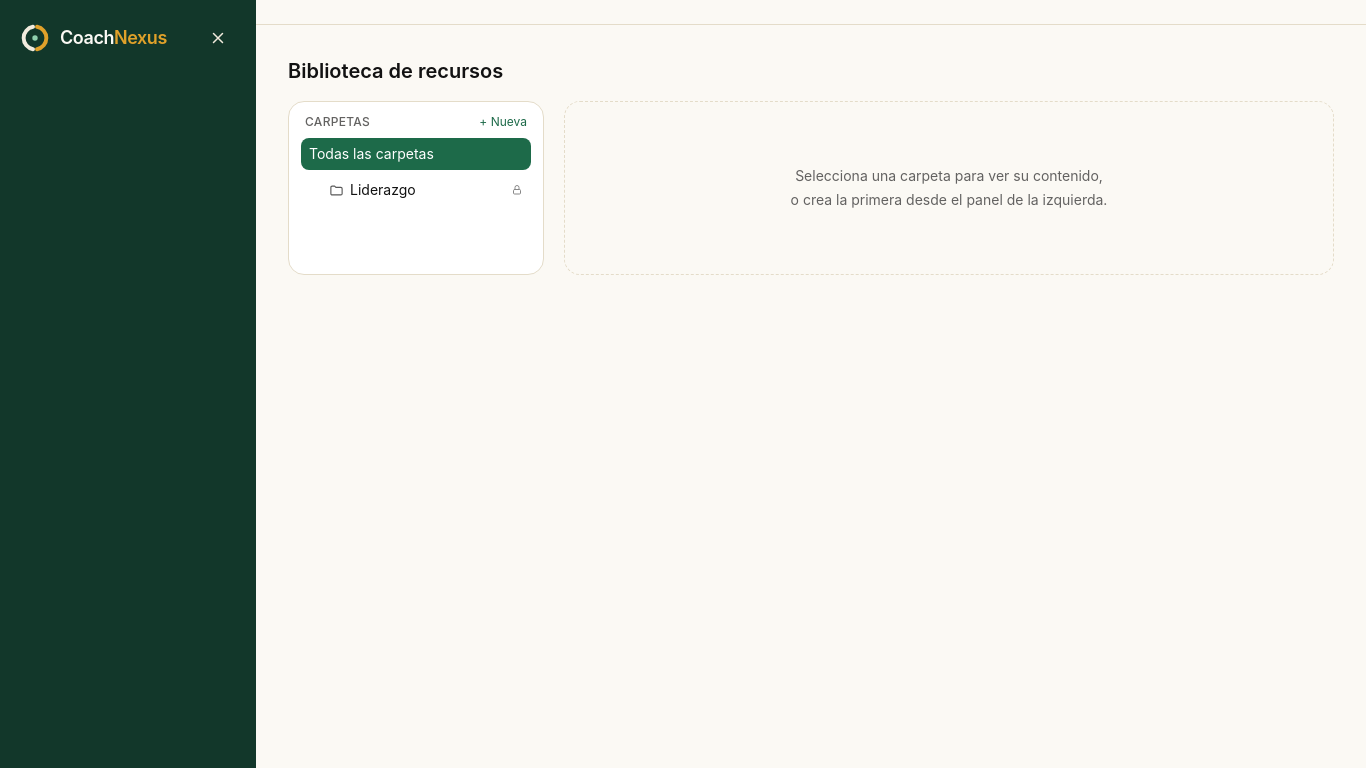
Scenario: RecursosView › filters the folder resources by categoria
This screenshot has width=1366, height=768.
Click the element showing "Liderazgo" at (383, 190), box [329,181,523,198]
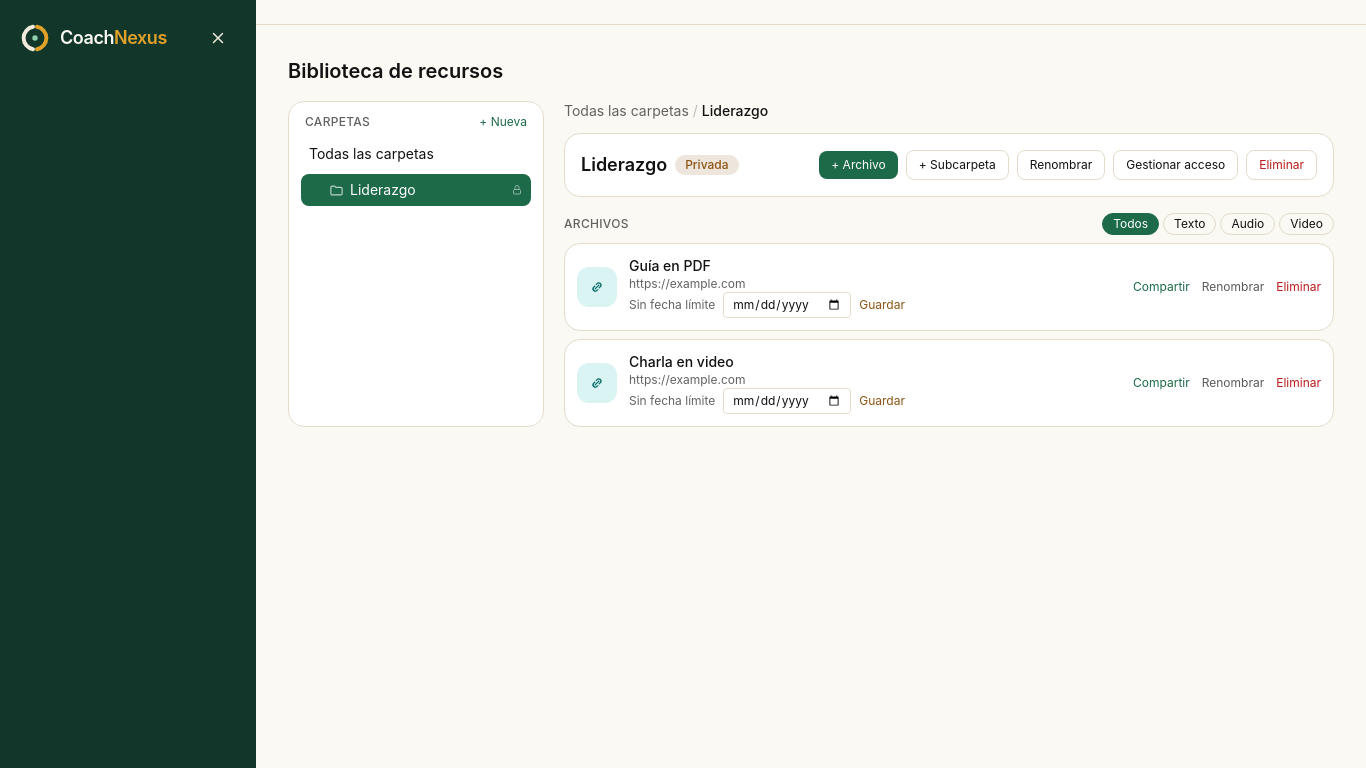
Expected: the text "Guía en PDF" is shown, [629,257,711,274]
Expected: the text "Charla en video" is shown, [629,353,734,370]
Click the button "Texto" at (1190, 224), box [1163,213,1216,235]
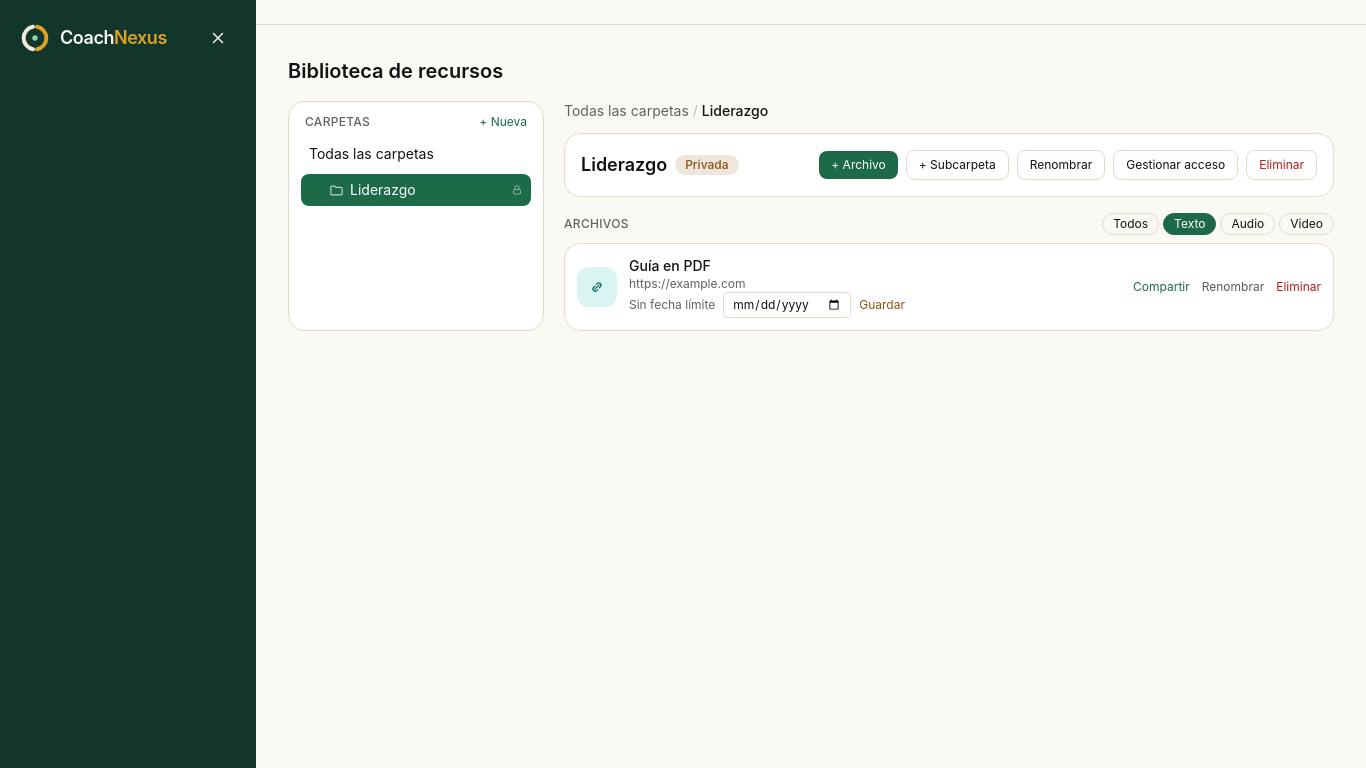
Expected: the text "Guía en PDF" is shown, [629,257,711,274]
Expected: the text "Charla en video" is gone
